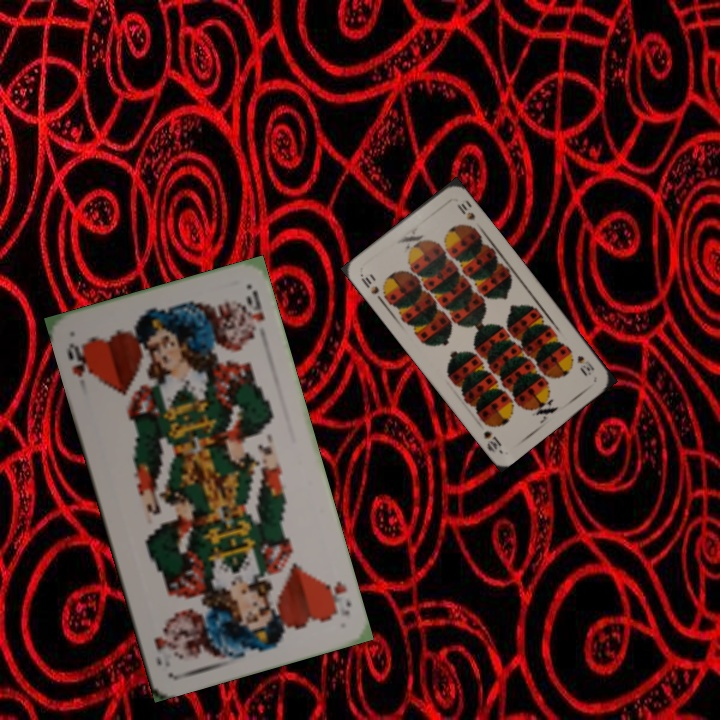HO: (320, 577, 354, 619), (63, 339, 96, 382)
S10: (357, 270, 386, 306), (572, 351, 597, 378)
